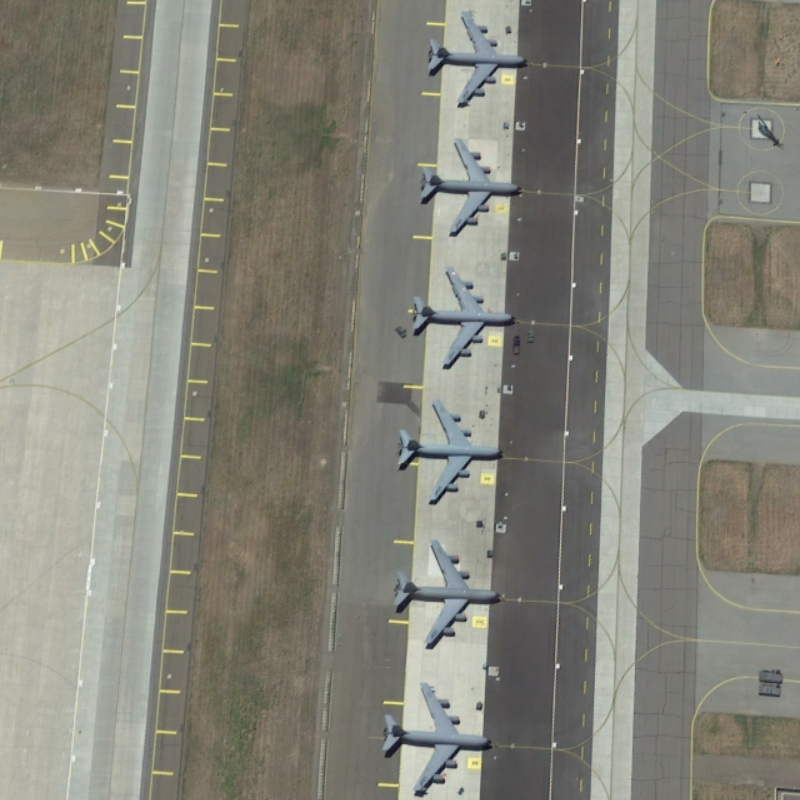A14: (383, 530, 512, 655), (375, 677, 502, 800), (396, 390, 510, 511), (407, 262, 528, 373), (413, 128, 524, 240), (419, 7, 535, 114)
